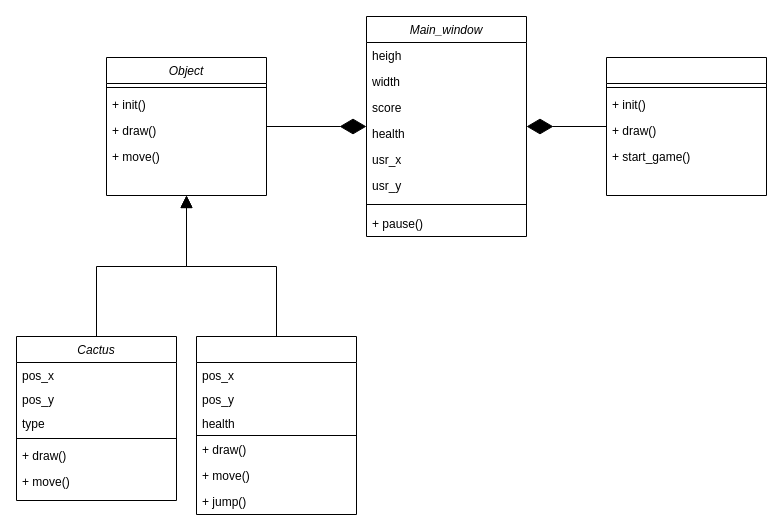
The diagram is 783 pixels wide and 531 high, and some of its shapes have lost their labels. The shapes that lost their labels are listed below. From the top down, each one's box as (x1, y1, x2, y2) in pixels, then its label:
(606, 56, 766, 196): Button
(196, 336, 356, 514): Dino
